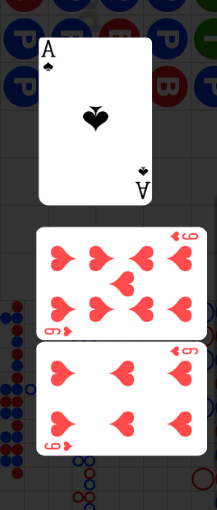6H: (43, 439, 75, 452)
9H: (168, 231, 199, 243)
AS: (41, 40, 59, 75)
